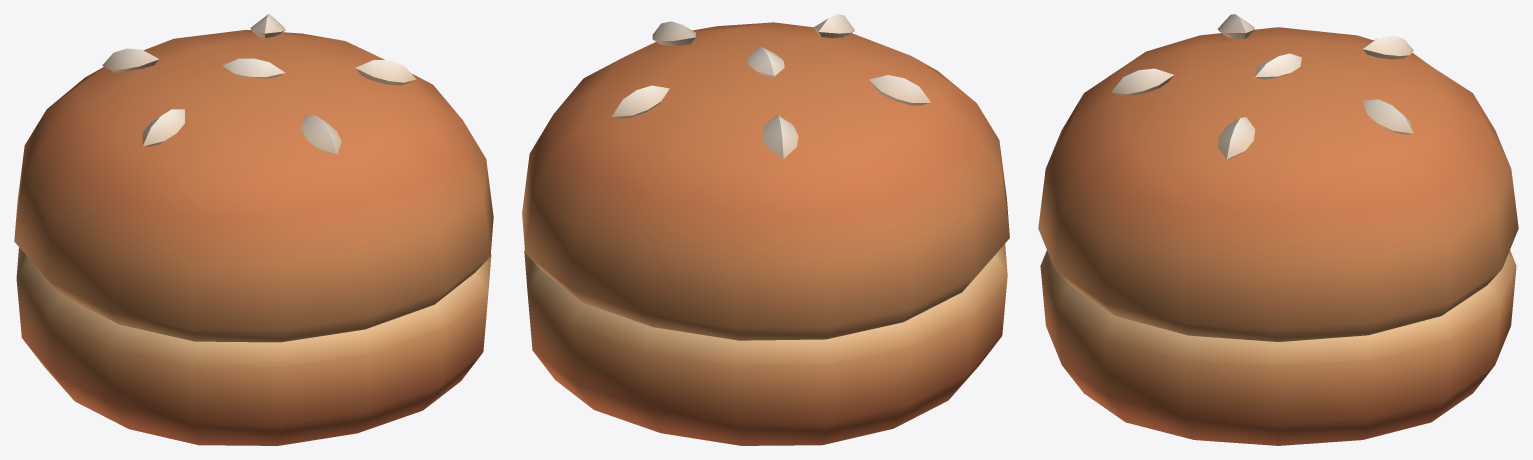
File: kay-food_ingredient_bun.glb
3 renders of one model, left to right at view 1: azimuth 30°, elevation 25°; view 2: azimuth 150°, elevation 25°; view 3: azimuth 270°, elevation 25°, orthographic.
Visible parts, largest first — view 1: food_ingredient_bun; view 2: food_ingredient_bun; view 3: food_ingredient_bun.
Boxes of the visible parts, box(x1,y1,x2,y2) form: food_ingredient_bun: box(14, 14, 493, 445); food_ingredient_bun: box(522, 14, 1009, 445); food_ingredient_bun: box(1038, 14, 1518, 445).
Size of the model in its own units: 0.22 by 0.1594 by 0.22.
Materials: 1 (1 with a texture image).
